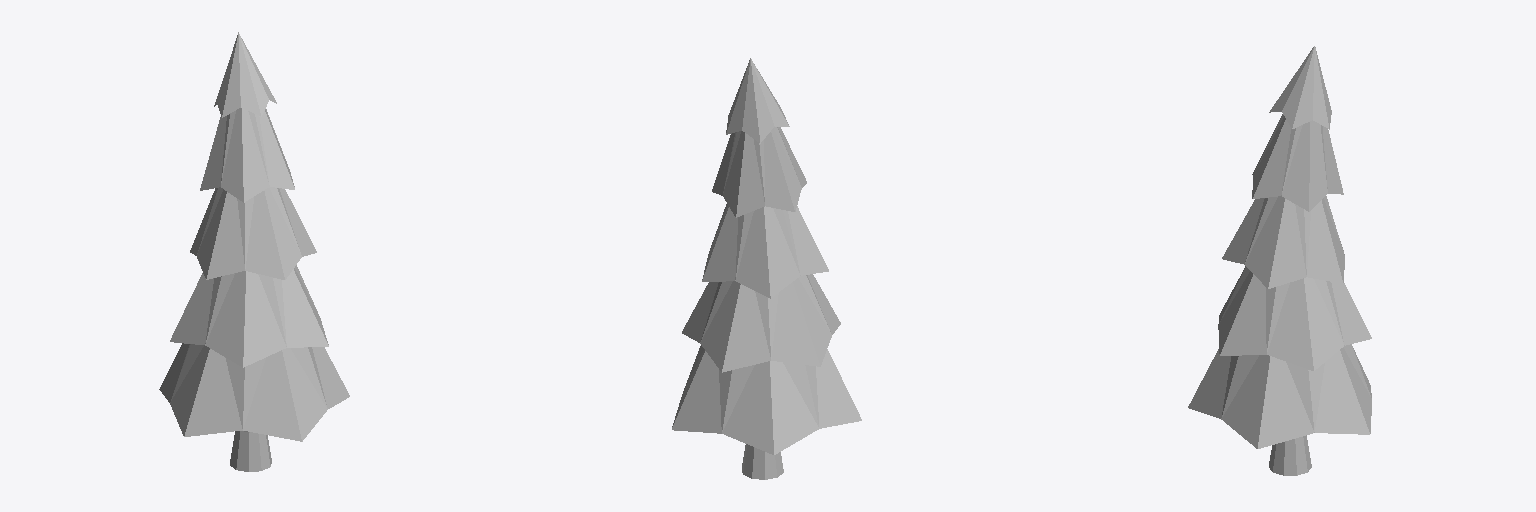
The model's file is TreeSwaying8.obj.
The picture shows the model from 3 angles: view 1: azimuth 30°, elevation 25°; view 2: azimuth 150°, elevation 25°; view 3: azimuth 270°, elevation 25°; orthographic projection.
Parts seen in each view (by area): view 1: Cylinder.001; view 2: Cylinder.001; view 3: Cylinder.001.
Part boxes in pixels (left/top/right/bottom): Cylinder.001: left=159, top=32, right=349, bottom=471; Cylinder.001: left=672, top=58, right=861, bottom=479; Cylinder.001: left=1188, top=46, right=1371, bottom=475.
Bounding box in the file's own units: 5.86 × 14.2 × 5.63.